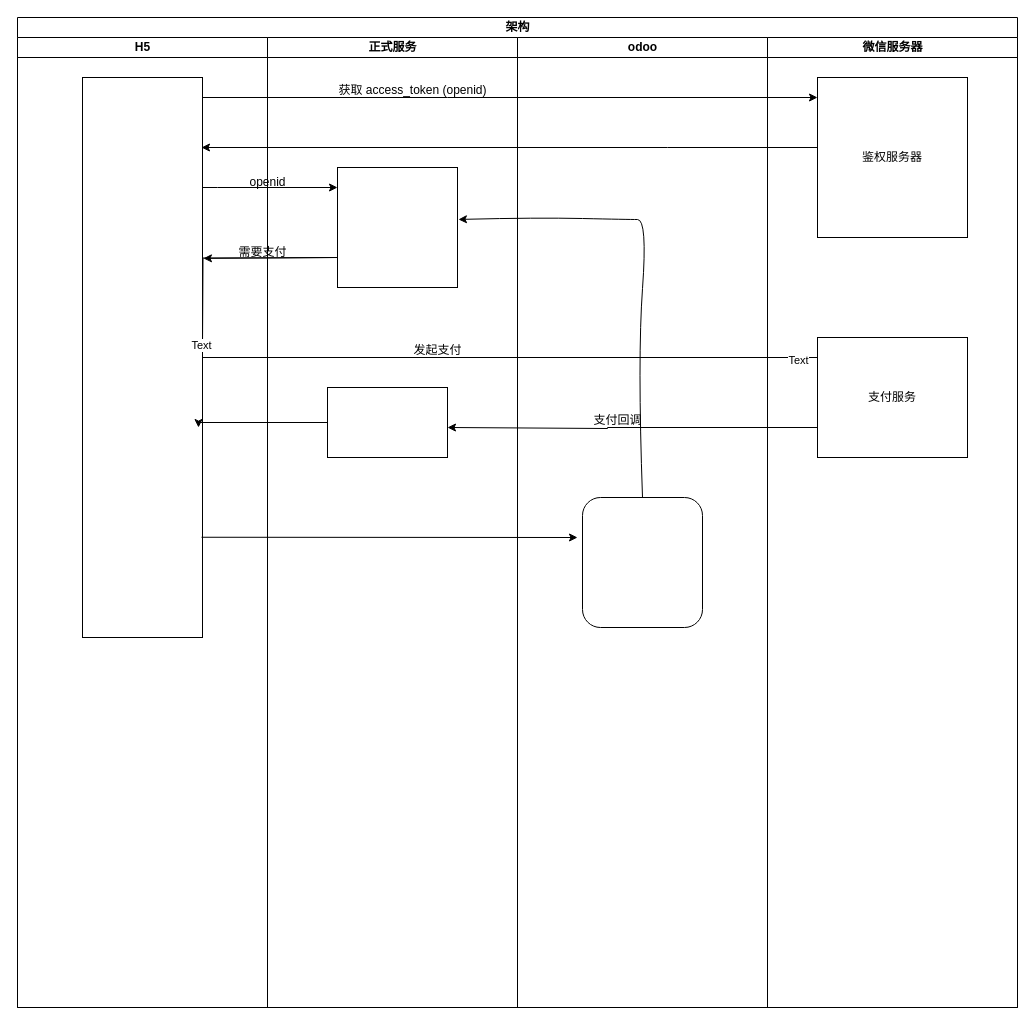
The diagram is 1035 pixels wide and 1025 high, and some of its shapes have lost their labels. Here are the shapes that lost their labels. From the top down, the centre of each, then its label:
At pixel 397 227: "生成报告".
At pixel 142 357: "公众号入口".
At pixel 387 422: "支付成功".
At pixel 642 562: "我的报告".
